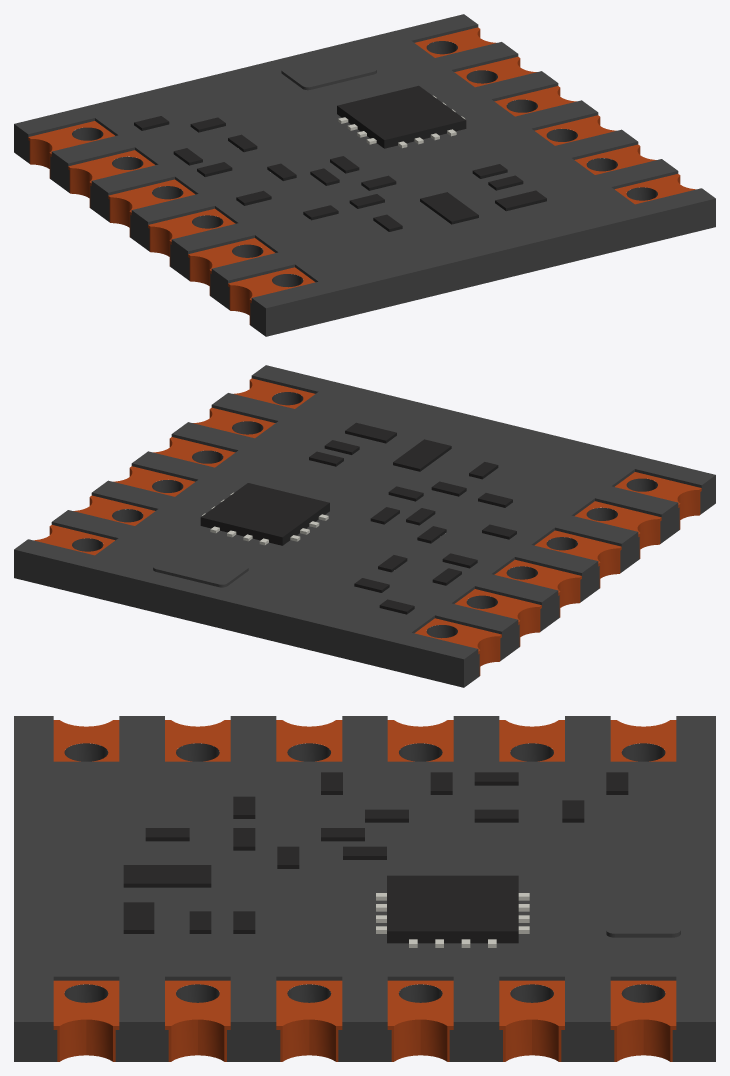
Rendered from kc-zeta-433-so_tht.glb.
3 views of the same model, one above another, from view 1: azimuth 30°, elevation 25°; view 2: azimuth 150°, elevation 25°; view 3: azimuth 270°, elevation 25° (orthographic). The views are drawn at different scales.
Visible parts, largest first — view 1: 0.08333333333333333_0.08333333333333333_0.08333333333333333_, 0.4166666666666667_0.08333333333333333_0_0, 0_0_0_0; view 2: 0.08333333333333333_0.08333333333333333_0.08333333333333333_, 0.4166666666666667_0.08333333333333333_0_0, 0_0_0_0; view 3: 0.08333333333333333_0.08333333333333333_0.08333333333333333_, 0.4166666666666667_0.08333333333333333_0_0, 0_0_0_0, 0.6666666666666666_0.6666666666666666_0.5833333333333334_0.8.
Part boxes in pixels (x1=…): 0.08333333333333333_0.08333333333333333_0.08333333333333333_: x1=14, y1=14, x2=715, y2=336; 0.4166666666666667_0.08333333333333333_0_0: x1=28, y1=27, x2=695, y2=324; 0_0_0_0: x1=134, y1=85, x2=546, y2=231; 0.08333333333333333_0.08333333333333333_0.08333333333333333_: x1=14, y1=365, x2=715, y2=687; 0.4166666666666667_0.08333333333333333_0_0: x1=34, y1=378, x2=701, y2=675; 0_0_0_0: x1=200, y1=422, x2=516, y2=614; 0.08333333333333333_0.08333333333333333_0.08333333333333333_: x1=14, y1=716, x2=715, y2=1061; 0.4166666666666667_0.08333333333333333_0_0: x1=53, y1=720, x2=676, y2=1061; 0_0_0_0: x1=123, y1=772, x2=628, y2=943; 0.6666666666666666_0.6666666666666666_0.5833333333333334_0.8: x1=376, y1=893, x2=529, y2=947.
Bounding box in the file's own units: 1.65 × 0.13 × 1.6.
